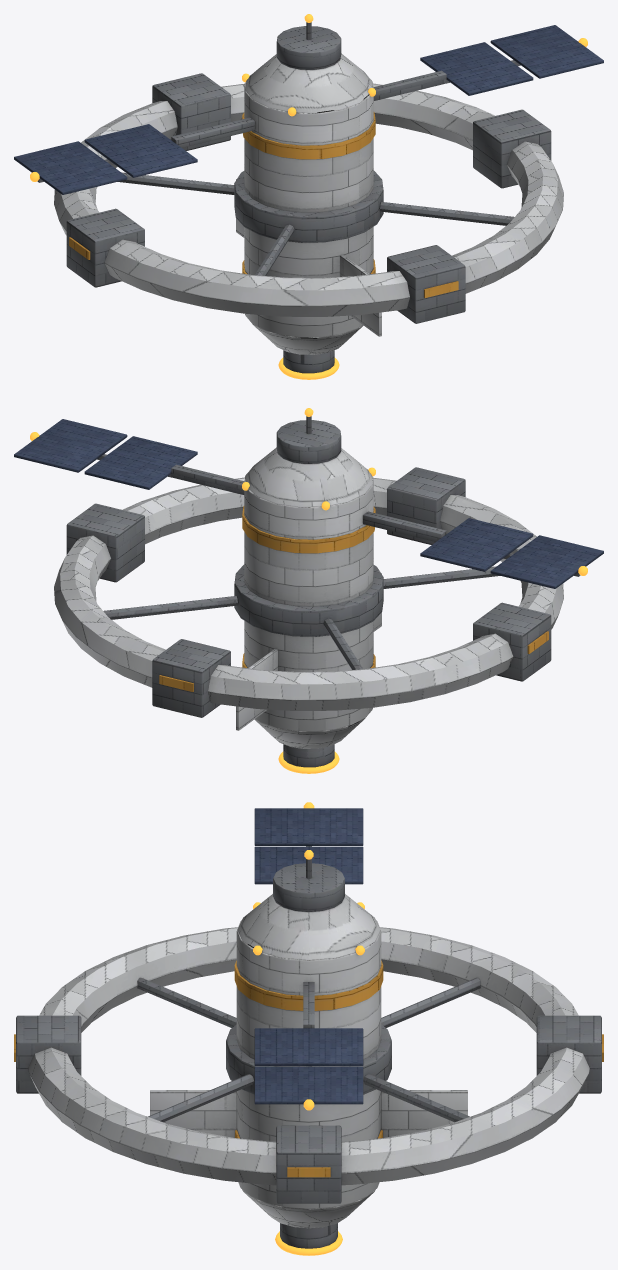
File: career_station.glb
3 renders of one model, top to bottom at view 1: azimuth 30°, elevation 25°; view 2: azimuth 150°, elevation 25°; view 3: azimuth 270°, elevation 25°, orthographic. The views are drawn at different scales.
Visible parts, largest first — view 1: HabitatRing, CareerStation; view 2: HabitatRing, CareerStation; view 3: HabitatRing, CareerStation.
Part boxes in pixels (x1,y1,x2,y2): HabitatRing: (54, 73, 563, 323); CareerStation: (14, 14, 603, 379); HabitatRing: (54, 467, 563, 717); CareerStation: (14, 408, 603, 773); HabitatRing: (14, 927, 603, 1203); CareerStation: (150, 802, 467, 1255).
Bounding box in the file's own units: 9.87 × 5.98 × 8.16.
Materials: 2 (1 with a texture image).
